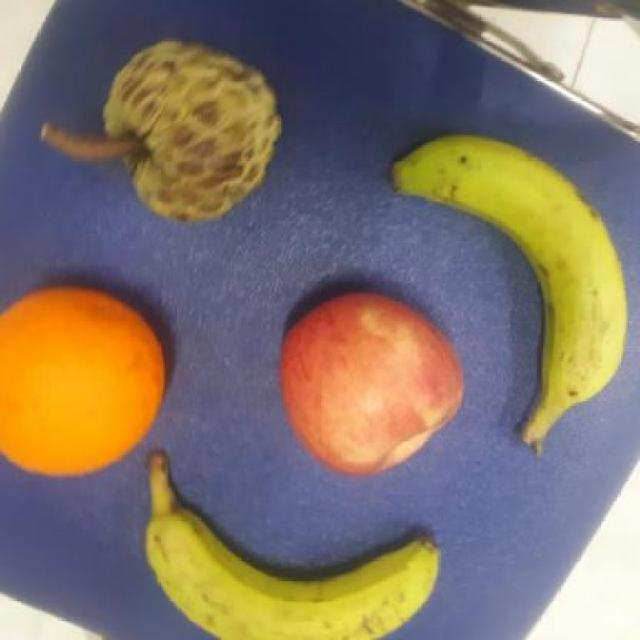apple: (277, 275, 471, 479)
banana: (390, 128, 635, 448), (149, 495, 445, 639)
oren: (0, 277, 180, 480)
sugar apple: (99, 39, 286, 221)
